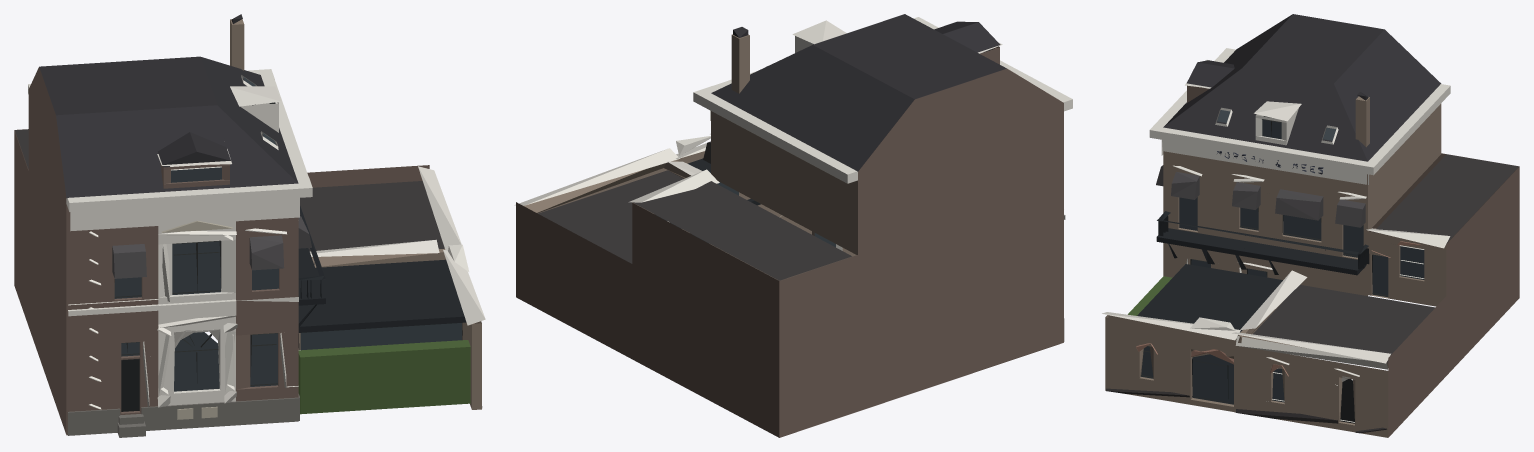
File: morgan-mees.lod1.glb
3 renders of one model, left to right at view 1: azimuth 30°, elevation 25°; view 2: azimuth 150°, elevation 25°; view 3: azimuth 270°, elevation 25°, orthographic. The views are drawn at different scales.
Parts seen in each view (by area): view 1: morgan-mees; view 2: morgan-mees; view 3: morgan-mees.
Boxes of the visible parts, x1,y1,x2,y2 form: morgan-mees: [14, 14, 485, 437]; morgan-mees: [514, 14, 1072, 437]; morgan-mees: [1102, 14, 1519, 437].
Bounding box in the file's own units: 23.67 × 15 × 22.03.
